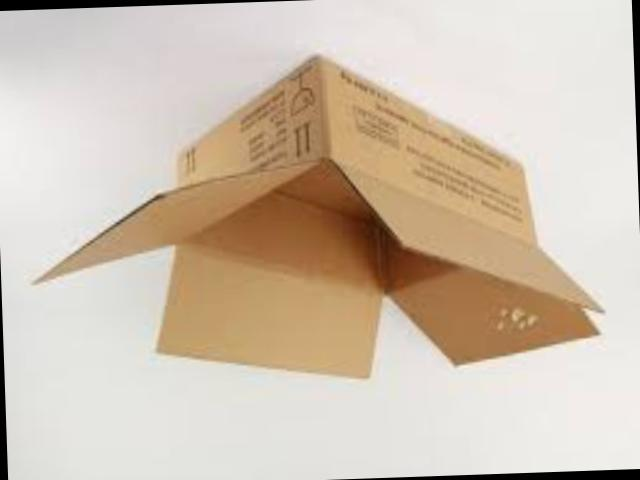cardboard paper: (44, 65, 603, 381)
